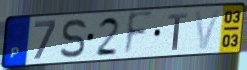2: (93, 15, 122, 56)
7: (32, 18, 59, 62)
F: (122, 9, 155, 60)
S: (59, 17, 88, 60)
T: (166, 12, 188, 52)
V: (193, 8, 223, 52)
